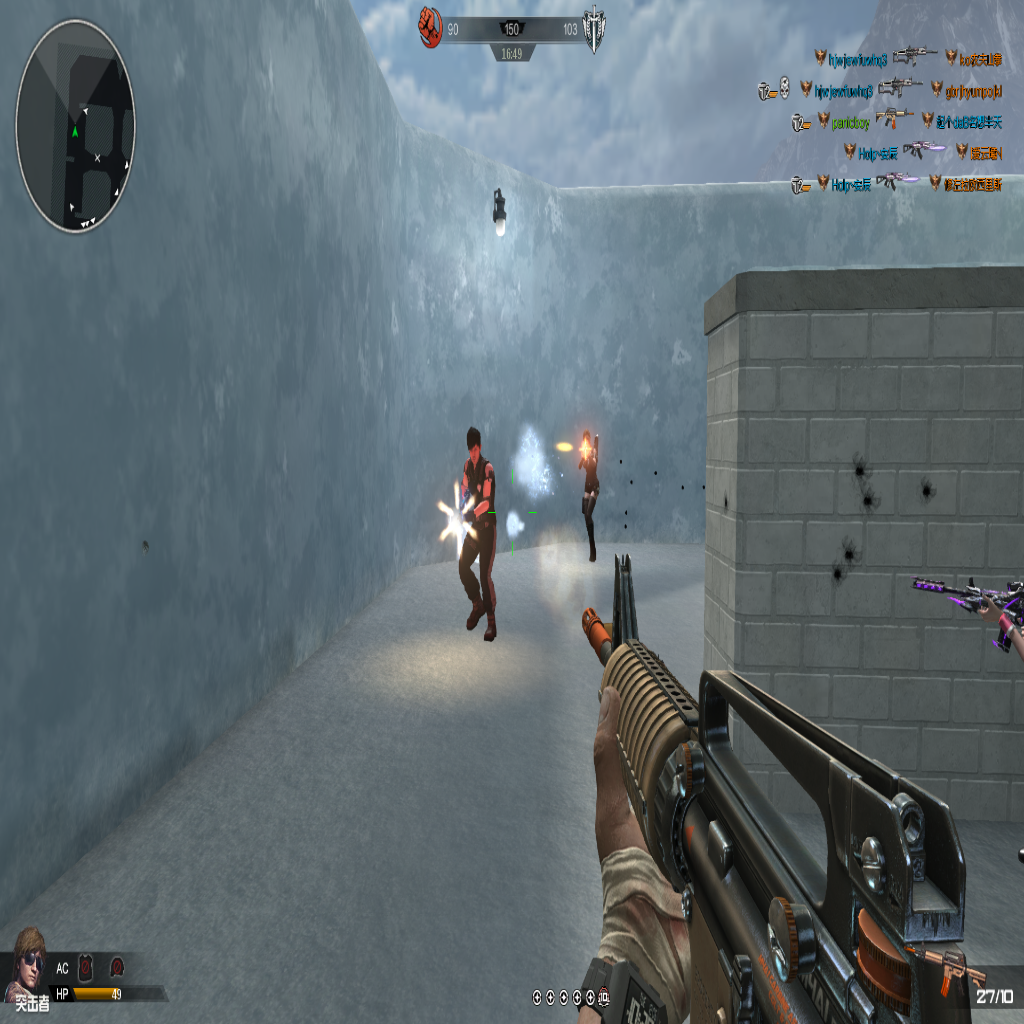ct: (460, 423, 496, 641), (577, 419, 599, 562)
